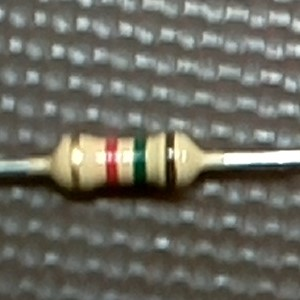brown_band: (162, 125, 178, 191)
gold_band: (68, 130, 83, 195)
green_band: (131, 133, 149, 188)
red_band: (103, 135, 120, 190)
